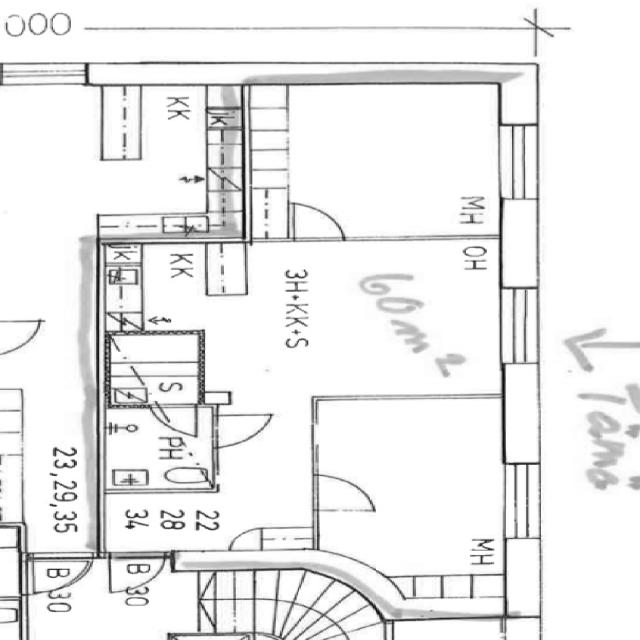door: (306, 467, 386, 516), (284, 196, 352, 244), (24, 555, 94, 596), (209, 409, 277, 451), (107, 554, 171, 596), (152, 402, 202, 438), (225, 525, 269, 553)
window: (484, 122, 546, 206), (493, 460, 548, 546), (492, 286, 546, 370), (340, 229, 490, 247), (1, 64, 91, 90)
zone: (201, 240, 513, 404), (247, 82, 506, 238), (312, 400, 514, 583), (97, 80, 247, 236), (99, 242, 248, 333), (100, 407, 216, 491), (103, 335, 203, 406)
